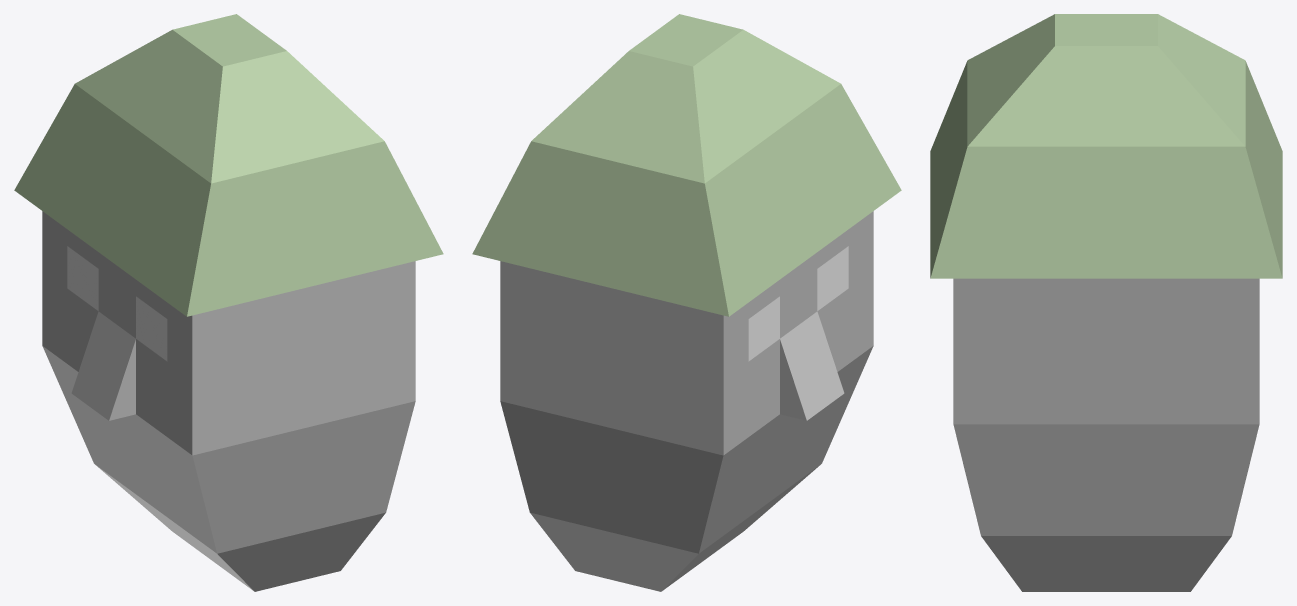
Rendered from SoldierMutant-Head.fbx.
3 views of the same model, side by side, from view 1: azimuth 30°, elevation 25°; view 2: azimuth 150°, elevation 25°; view 3: azimuth 270°, elevation 25° (orthographic).
Visible parts, largest first — view 1: SoldierMutantHead; view 2: SoldierMutantHead; view 3: SoldierMutantHead.
Part boxes in pixels (bbox=[...]): SoldierMutantHead: bbox=[14, 14, 443, 591]; SoldierMutantHead: bbox=[472, 14, 901, 591]; SoldierMutantHead: bbox=[930, 14, 1282, 591].
Size of the model in its own units: 0.1973 by 0.3653 by 0.221.
